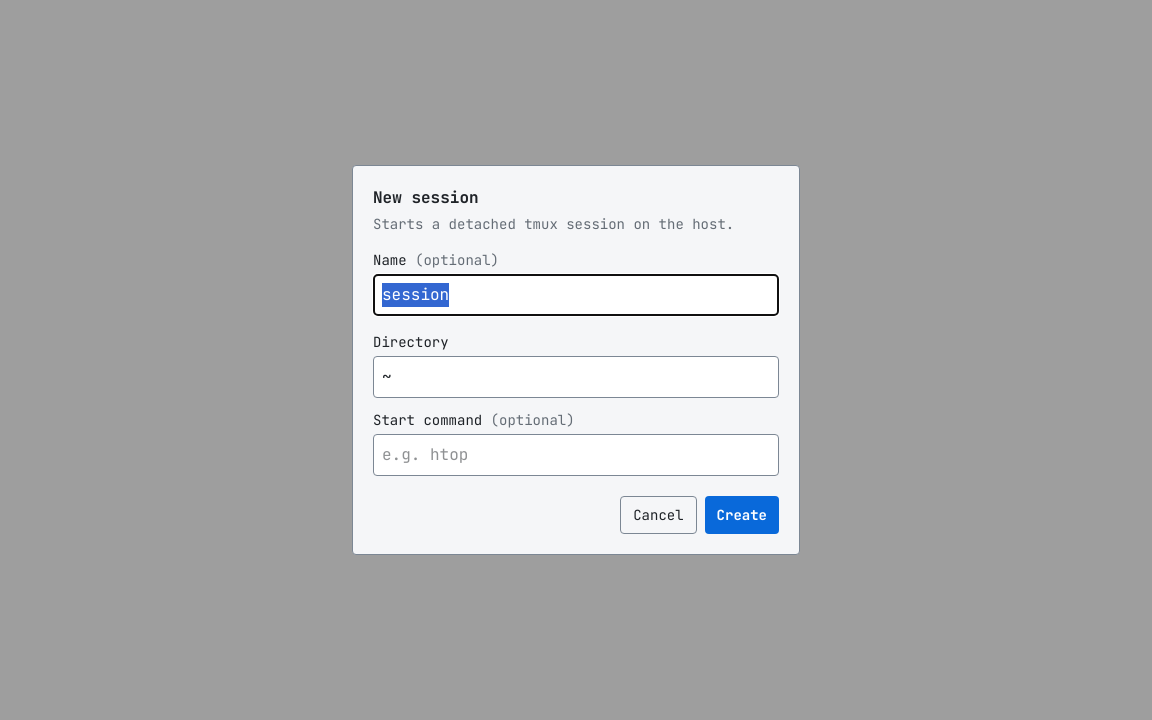
Test case: CreateSessionDialog › announces a numbered name only when a typed name changes
Replace the text in the field labelled "Name (optional)" with "work" at (576, 295), box [373,274,779,316]
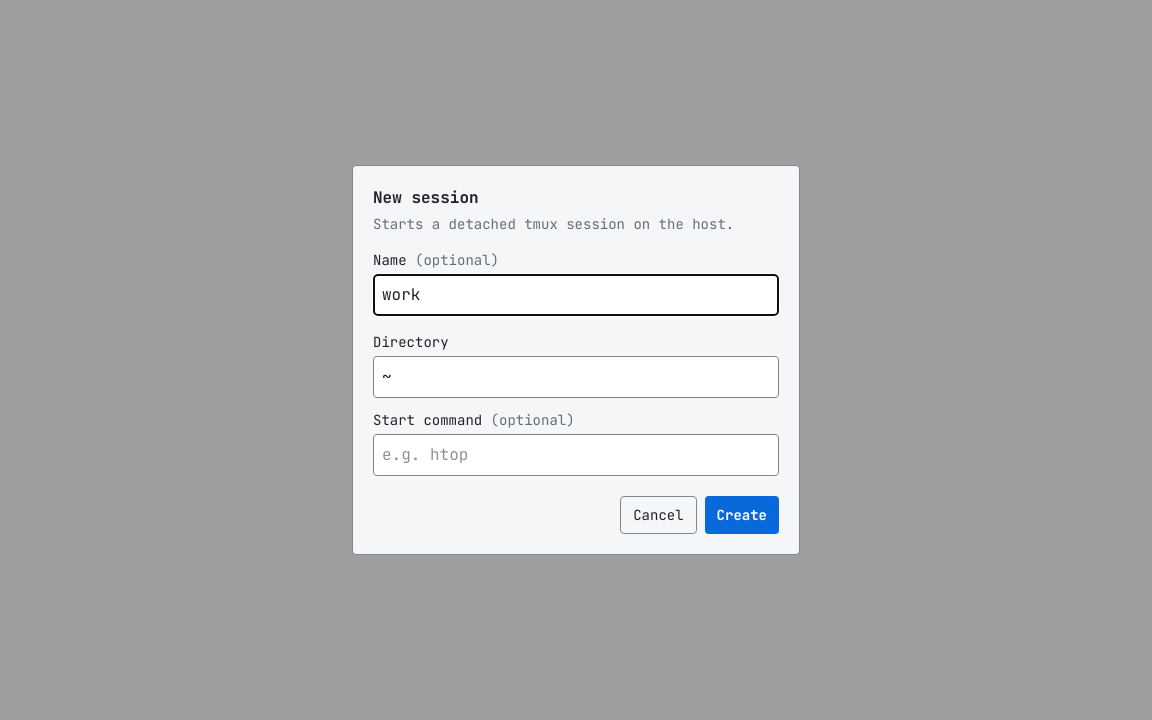
Click the button "Create" at (742, 515), box [705,496,779,534]
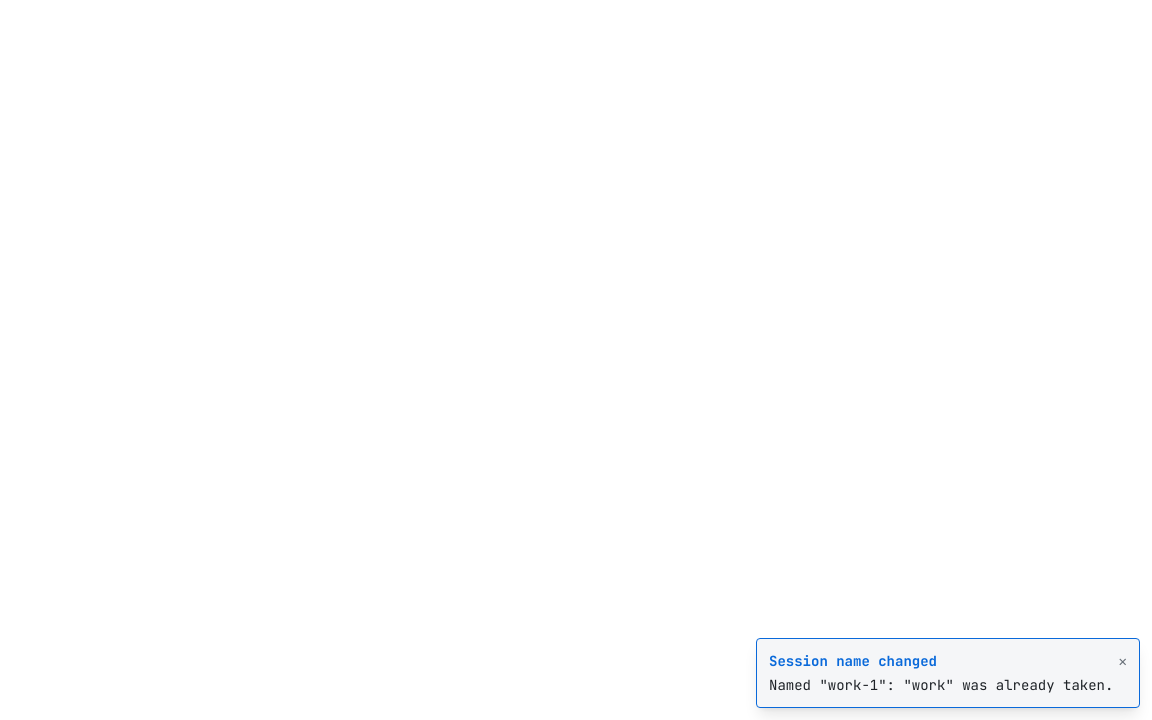
Now the message "Session name changed ✕ Named \"work-1\": \"work\" was already taken." shows "Named \"work-1\"", box [769,676,1113,694]
